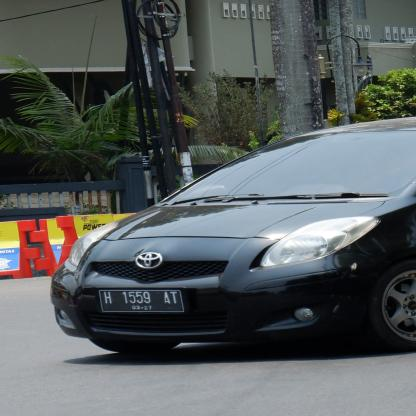Plat-Nomor: (92, 287, 190, 317)
